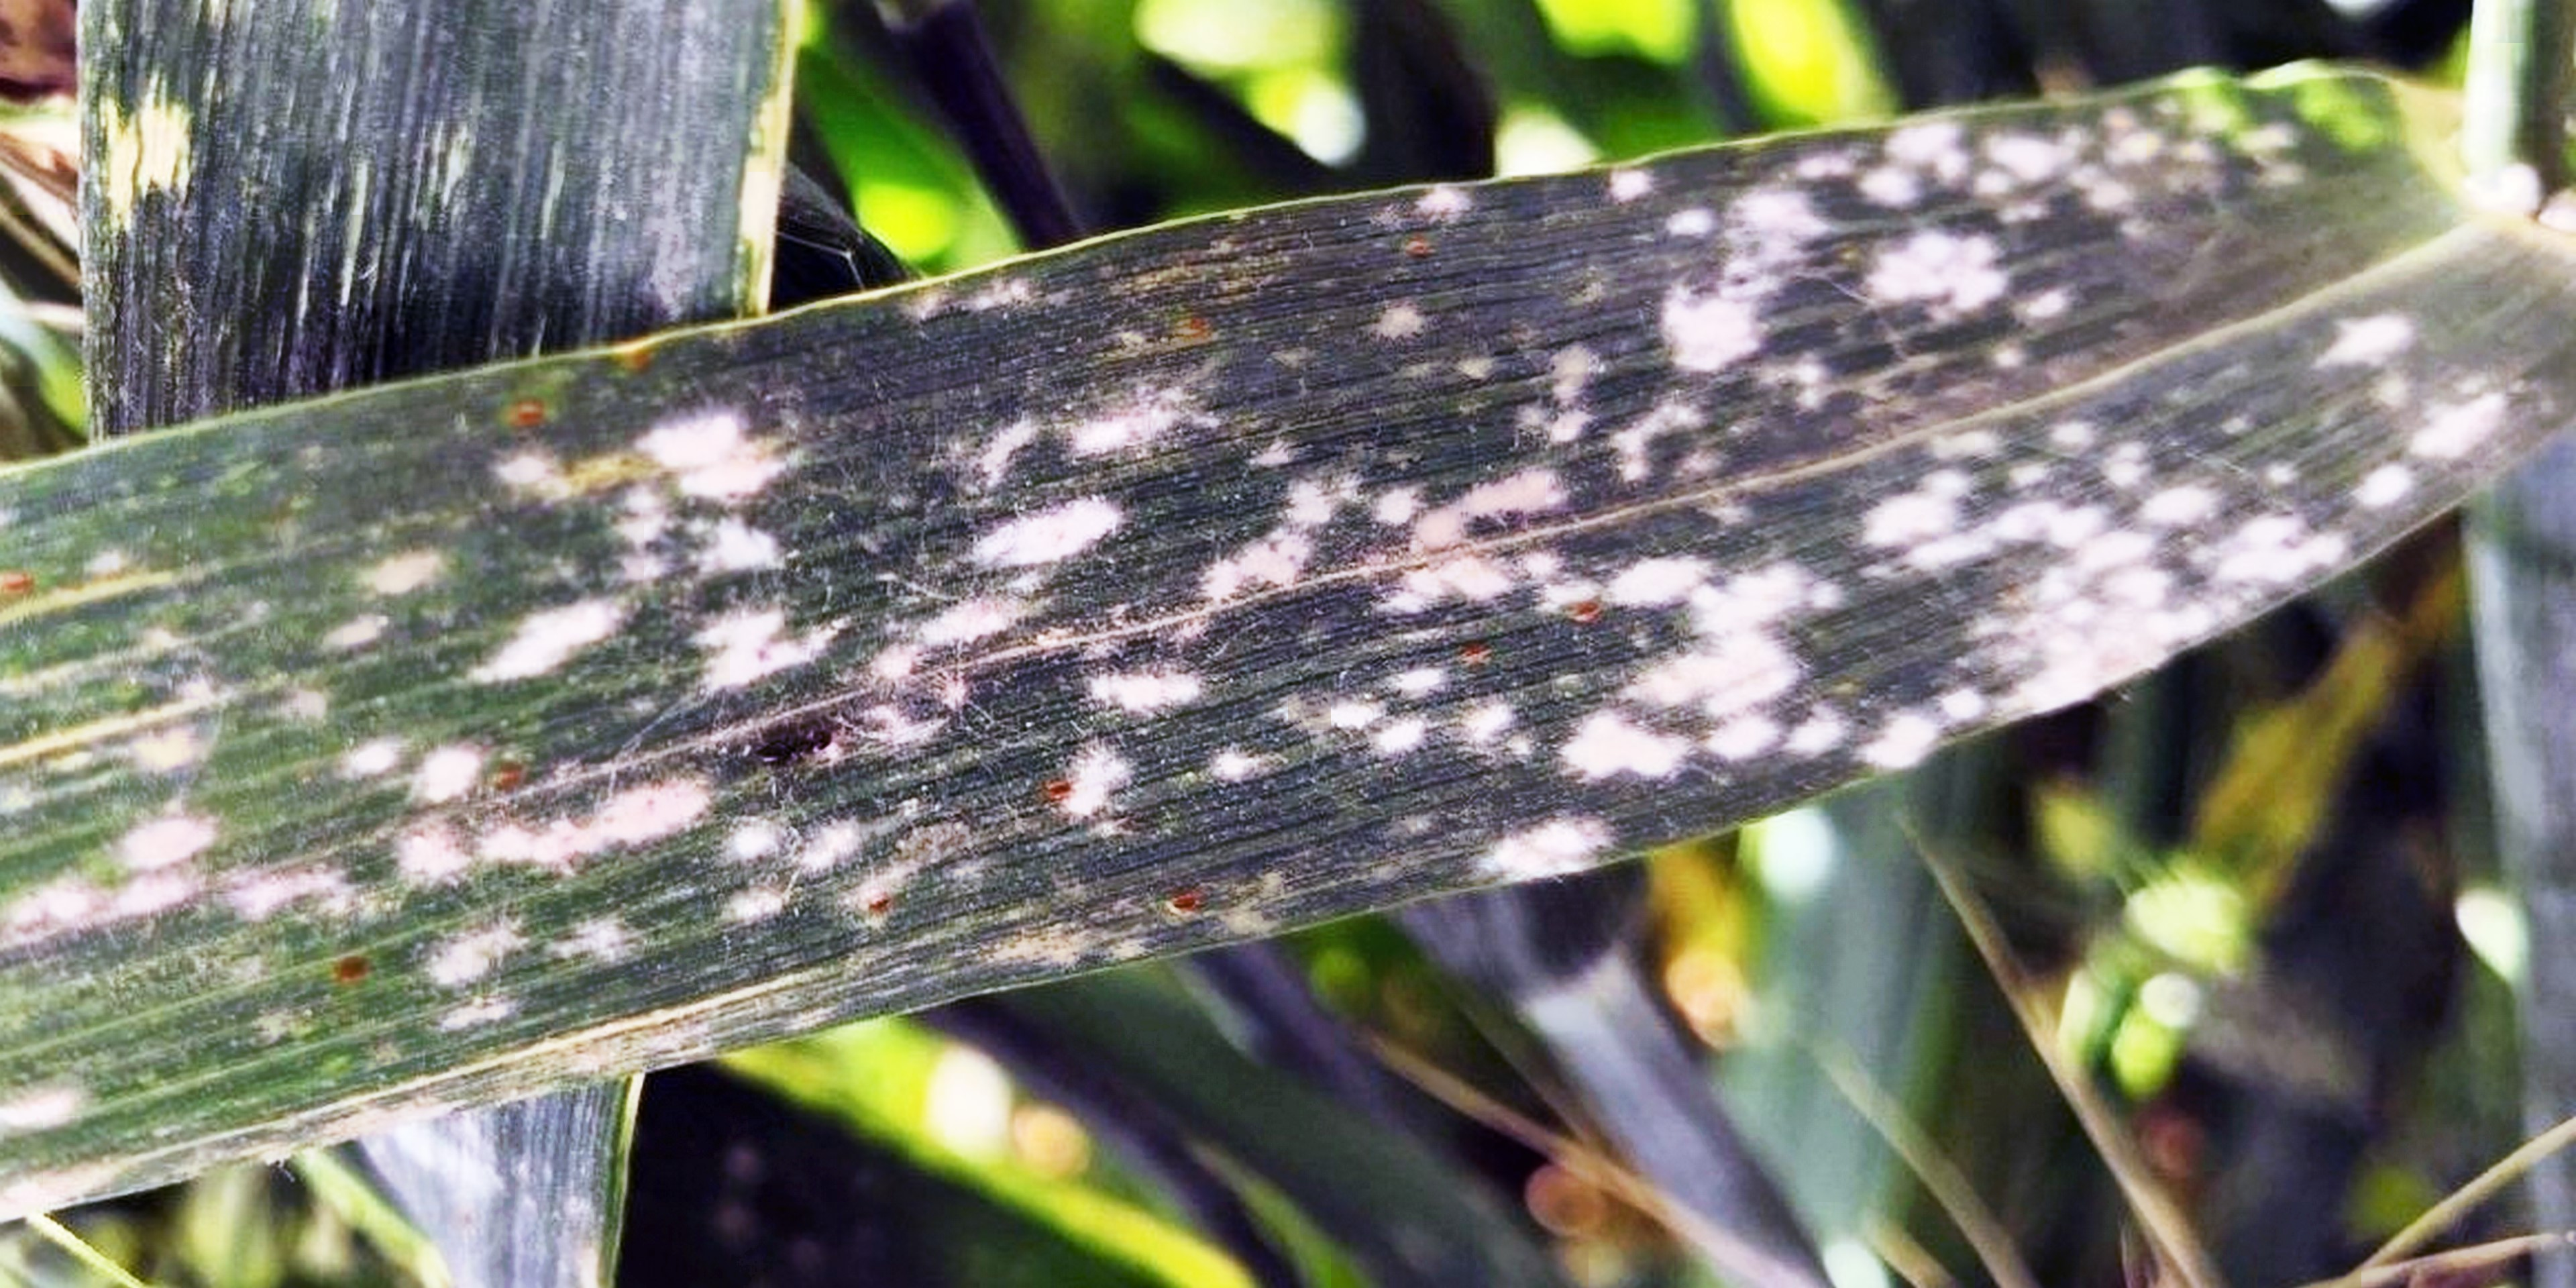Powdery Mildew: (179, 138, 2167, 1078)
